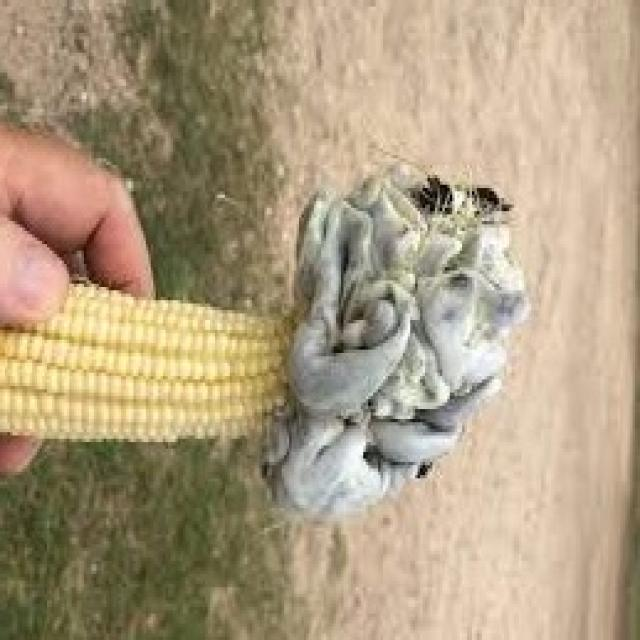Leaf_Scald: (191, 108, 595, 570)
